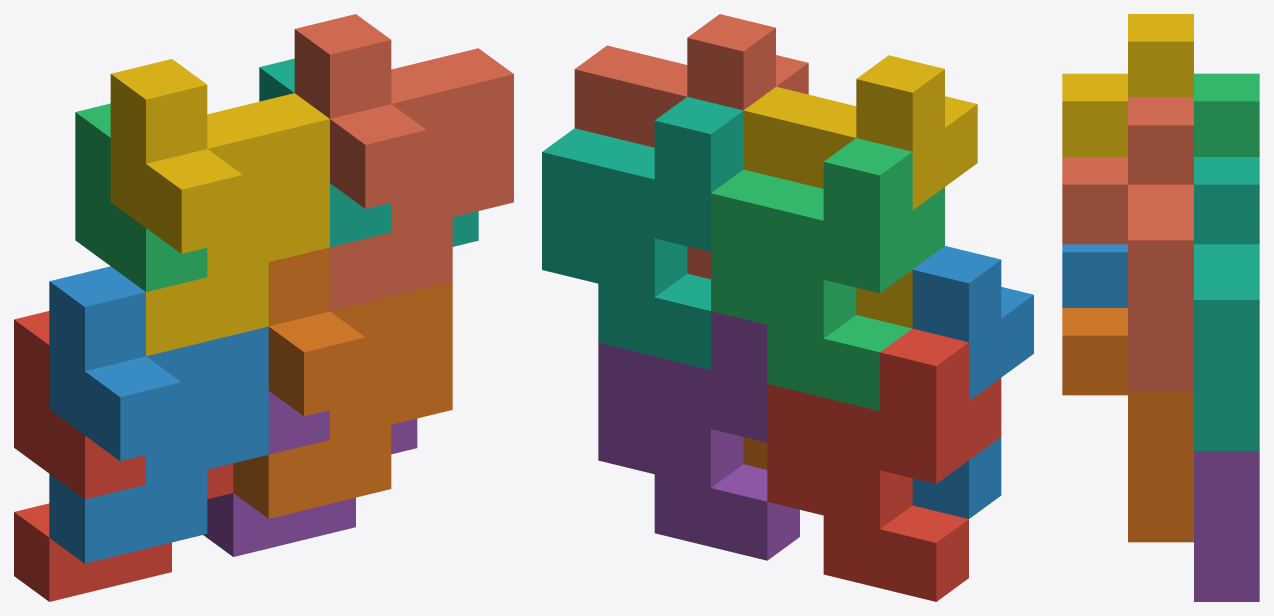
Rendered from tiling.obj.
The picture shows the model from 3 angles, left to right: view 1: azimuth 30°, elevation 25°; view 2: azimuth 150°, elevation 25°; view 3: azimuth 270°, elevation 25°; orthographic projection. The views are drawn at different scales.
Parts seen in each view (by area): view 1: copy_1_domain_4, copy_1_domain_2, copy_1_domain_8, copy_1_domain_6, copy_1_domain_1, copy_1_domain_3, copy_1_domain_5, copy_1_domain_7; view 2: copy_1_domain_3, copy_1_domain_1, copy_1_domain_7, copy_1_domain_5, copy_1_domain_4, copy_1_domain_8, copy_1_domain_2, copy_1_domain_6; view 3: copy_1_domain_8, copy_1_domain_7, copy_1_domain_6, copy_1_domain_4, copy_1_domain_5, copy_1_domain_3, copy_1_domain_2.
Boxes of the visible parts, box(x1,y1,x2,y2) form: copy_1_domain_4: box(110, 59, 329, 356); copy_1_domain_2: box(49, 266, 268, 563); copy_1_domain_8: box(294, 14, 513, 311); copy_1_domain_6: box(233, 247, 452, 518); copy_1_domain_1: box(14, 311, 233, 601); copy_1_domain_3: box(75, 103, 207, 291); copy_1_domain_5: box(203, 391, 417, 556); copy_1_domain_7: box(259, 58, 478, 247); copy_1_domain_3: box(711, 138, 944, 411); copy_1_domain_1: box(767, 328, 1001, 601); copy_1_domain_7: box(542, 96, 743, 369); copy_1_domain_5: box(598, 311, 799, 560); copy_1_domain_4: box(743, 55, 977, 328); copy_1_domain_8: box(574, 14, 808, 279); copy_1_domain_2: box(912, 246, 1033, 518); copy_1_domain_6: box(743, 437, 767, 469); copy_1_domain_8: box(1062, 97, 1193, 391); copy_1_domain_7: box(1194, 157, 1259, 450); copy_1_domain_6: box(1062, 308, 1193, 542); copy_1_domain_4: box(1062, 14, 1193, 156); copy_1_domain_5: box(1194, 451, 1259, 601); copy_1_domain_3: box(1194, 73, 1259, 156); copy_1_domain_2: box(1062, 244, 1127, 307).
Bounding box in the file's own units: 7 × 8 × 3.
